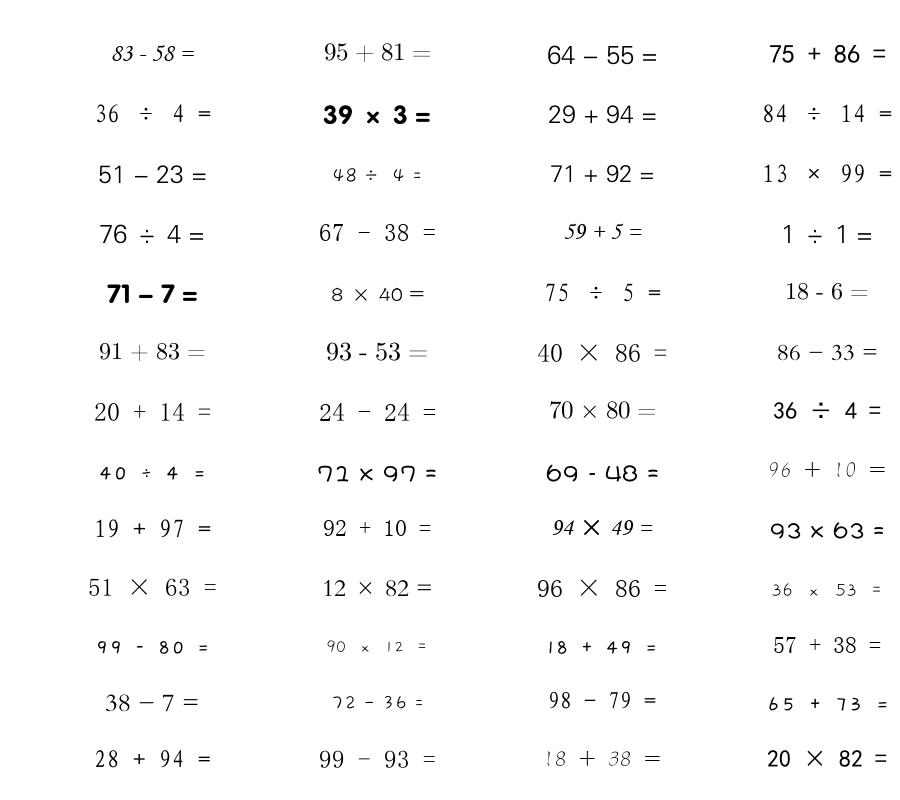MQ: (762, 104, 892, 123), (762, 164, 892, 183), (537, 344, 667, 362), (537, 579, 667, 597), (88, 578, 217, 596), (769, 44, 886, 63), (94, 104, 211, 123), (544, 283, 661, 302), (94, 402, 211, 421), (94, 519, 211, 538), (547, 45, 658, 65), (323, 105, 431, 125), (767, 750, 887, 768), (324, 43, 431, 63), (99, 224, 205, 244), (319, 403, 436, 421), (94, 750, 211, 768), (319, 750, 436, 768), (548, 105, 657, 124), (98, 165, 207, 184), (317, 465, 437, 482), (546, 464, 659, 482), (99, 342, 206, 361), (319, 224, 436, 241), (770, 522, 885, 539), (548, 691, 656, 709), (326, 342, 428, 361), (549, 401, 656, 419), (550, 165, 655, 183), (768, 462, 886, 478), (543, 751, 661, 767), (322, 580, 433, 597), (773, 402, 881, 419), (107, 284, 198, 304), (551, 519, 653, 536), (323, 520, 431, 536), (773, 637, 881, 653), (766, 697, 889, 711), (777, 344, 878, 361), (105, 694, 199, 712), (781, 225, 873, 243), (771, 583, 883, 597), (785, 282, 869, 300), (98, 466, 206, 480), (95, 641, 210, 654), (547, 641, 658, 654), (331, 287, 424, 302), (331, 695, 424, 710), (332, 168, 422, 183), (110, 45, 194, 61), (326, 640, 428, 653), (563, 223, 642, 239)
